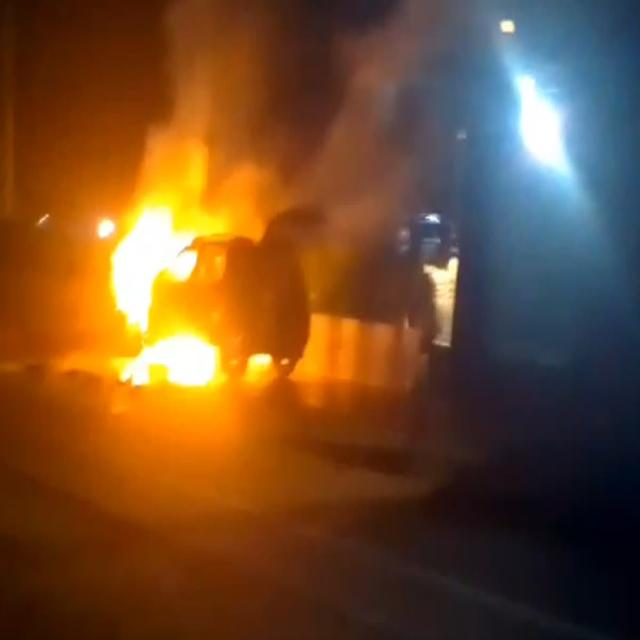fire: (110, 185, 221, 388)
